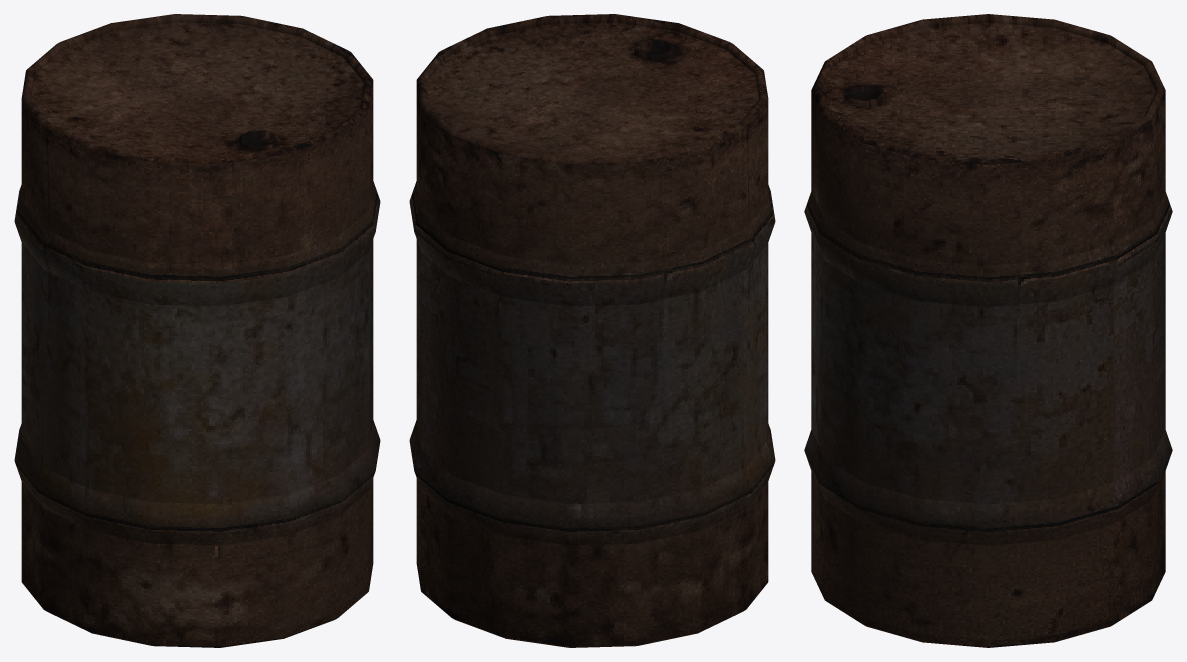
The model's file is metal_barrel_2.glb.
3 renders of one model, left to right at view 1: azimuth 30°, elevation 25°; view 2: azimuth 150°, elevation 25°; view 3: azimuth 270°, elevation 25°, orthographic.
Visible parts, largest first — view 1: metal_barrel_2; view 2: metal_barrel_2; view 3: metal_barrel_2.
Part boxes in pixels (x1,y1,x2,y2): metal_barrel_2: (14, 14, 380, 647); metal_barrel_2: (409, 14, 775, 647); metal_barrel_2: (804, 14, 1172, 647).
Size of the model in its own units: 0.7488 by 1.09 by 0.7488.
1 material, 1 textured.
